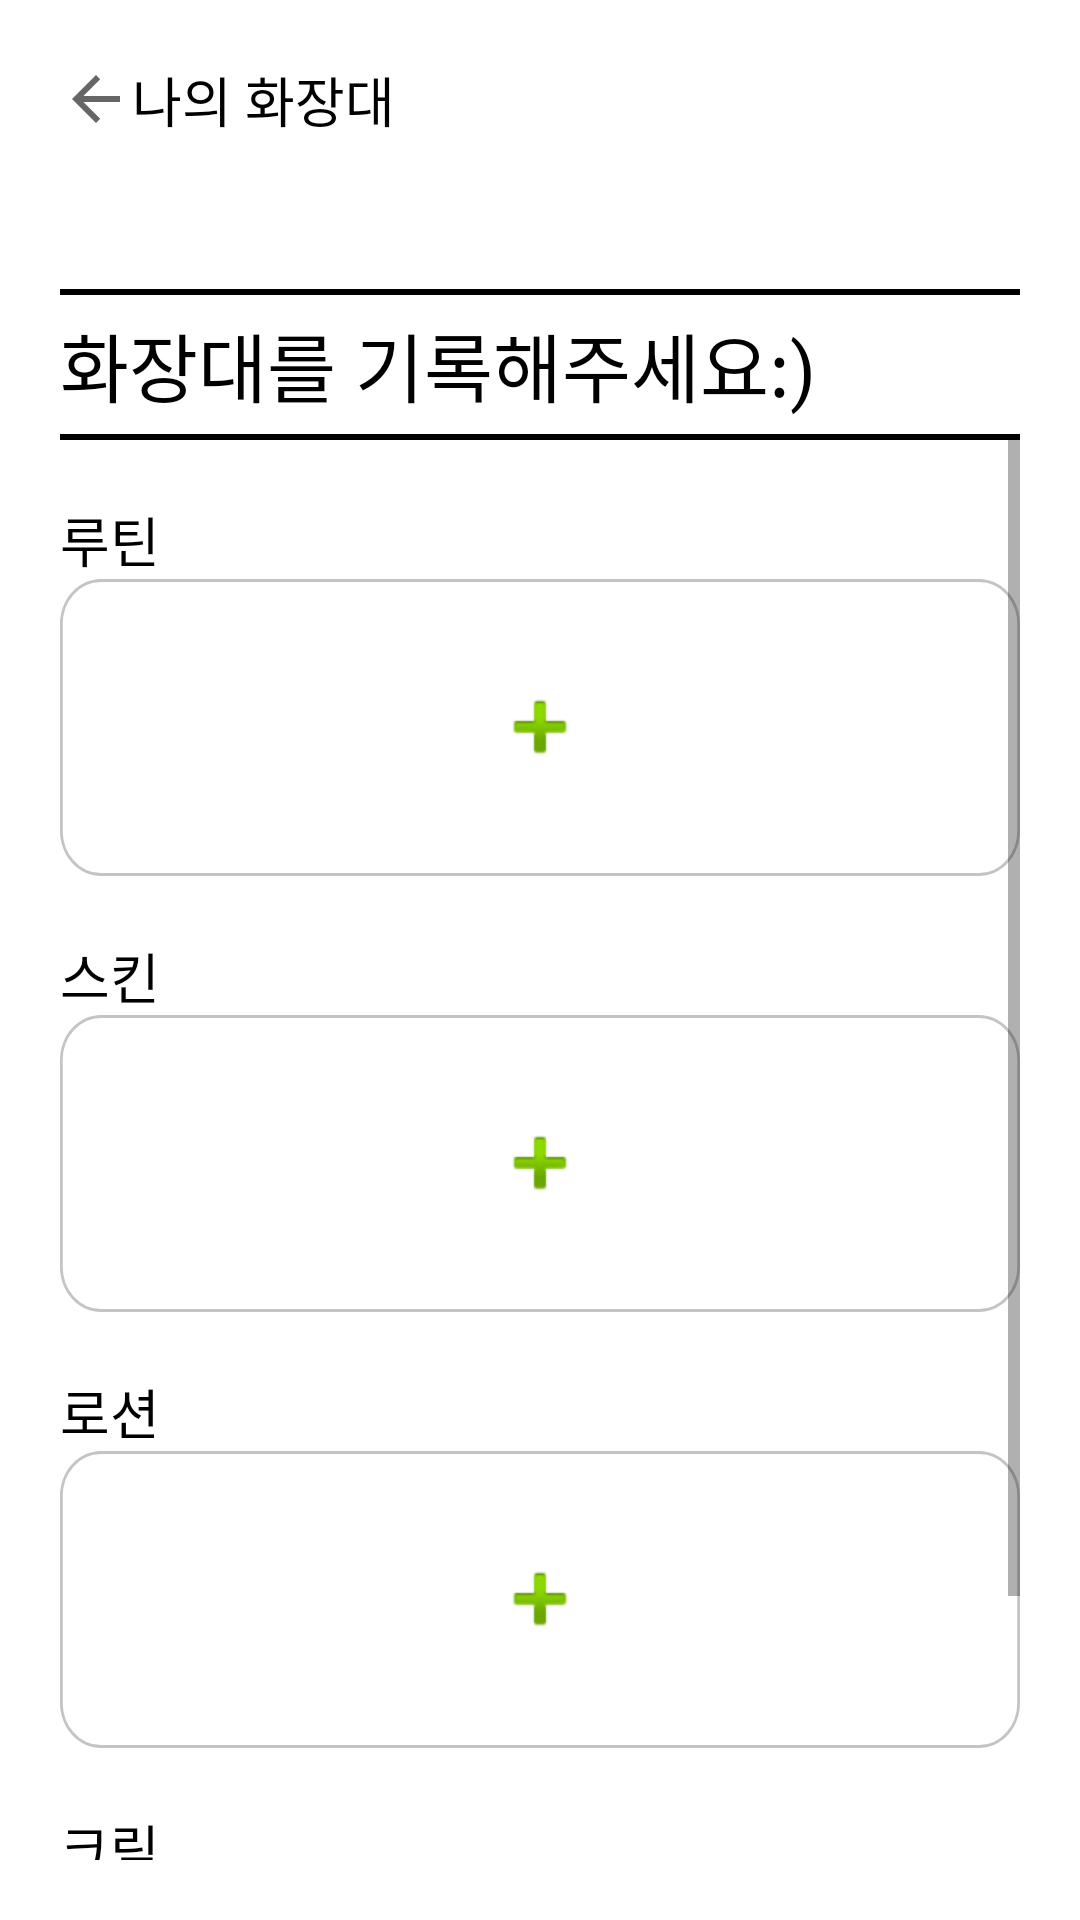

Screen size 1080w x 1920h. Icon name, then its center in pixels as point (x, y):
add: point (540, 727), point (540, 1163), point (540, 1599)
